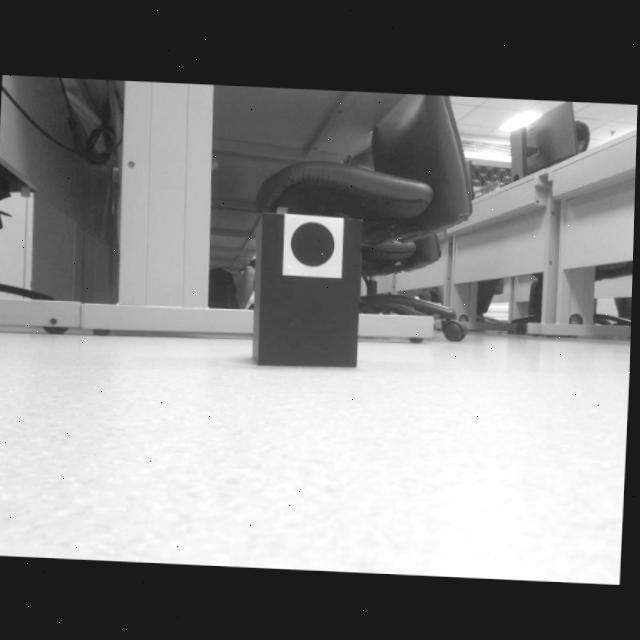CIRCLE: (292, 219, 336, 265)
